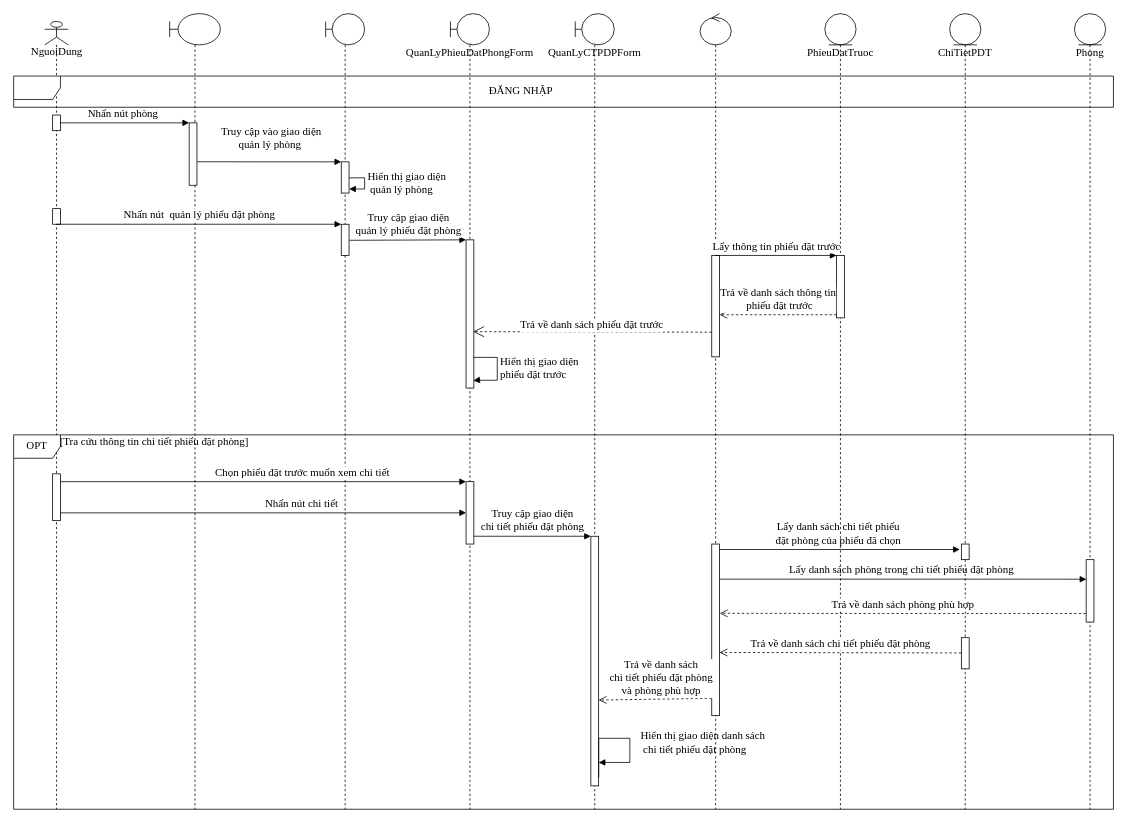
This 1127x823 diagram has some shape labels left out. The shapes that lost their labels are listed below. From the top down, each one's box as (x1, y1, x2, y2) in pixels, then its label:
(13, 75, 1113, 107): REF
(169, 13, 220, 809): MenuForm
(325, 13, 365, 809): QuanLyPhongForm
(699, 13, 731, 809): QuanLyPhongController
